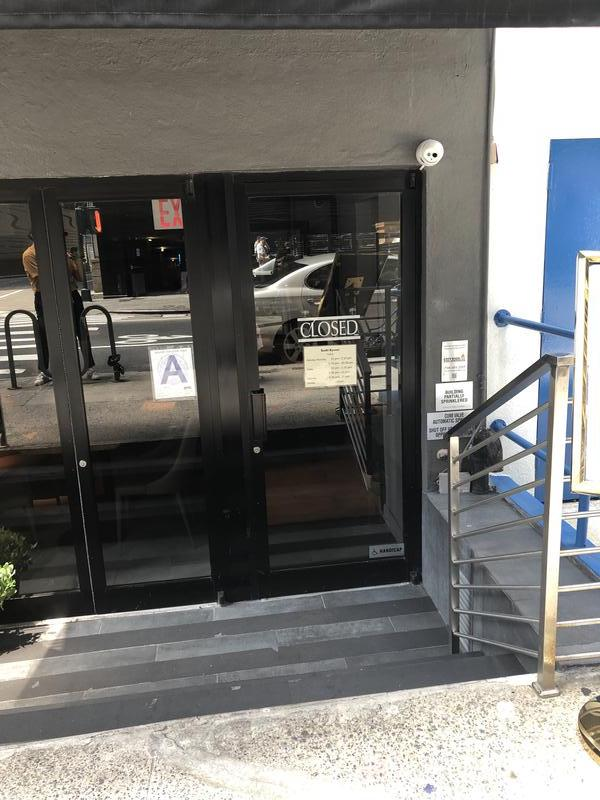door: (220, 165, 434, 596)
